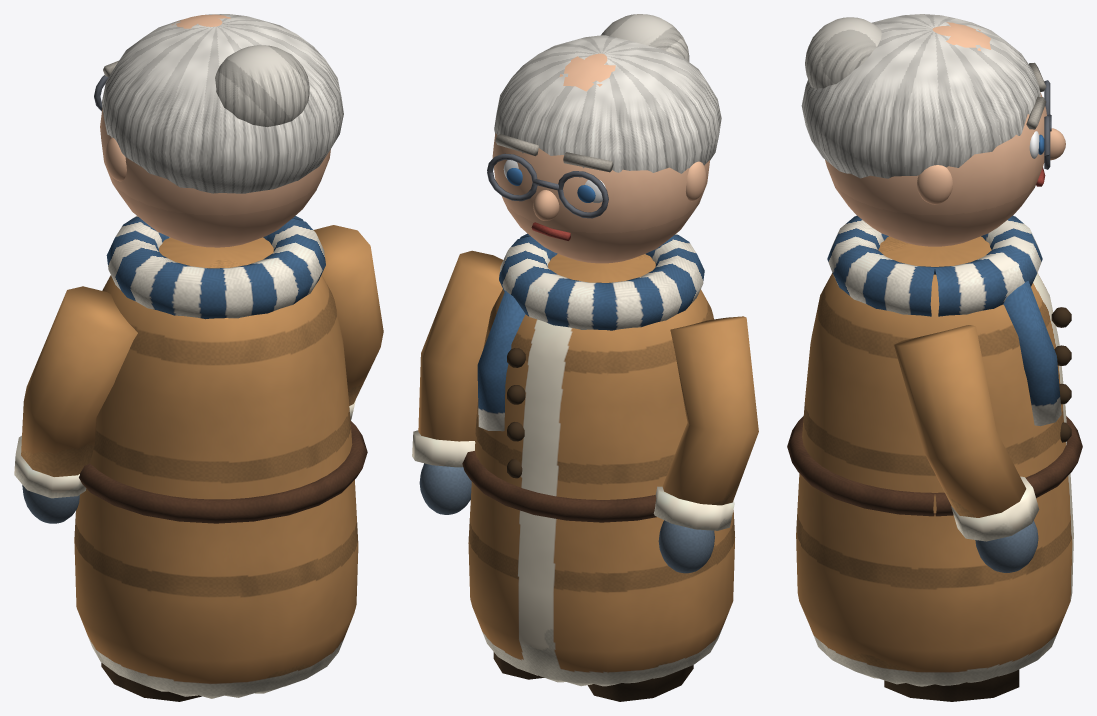
The model's file is ingrid.glb.
3 renders of one model, left to right at view 1: azimuth 30°, elevation 25°; view 2: azimuth 150°, elevation 25°; view 3: azimuth 270°, elevation 25°, orthographic. The views are drawn at different scales.
Visible parts, largest first — view 1: Body, Head; view 2: Body, Head; view 3: Body, Head.
Part boxes in pixels (left/top/right/bottom): Body: left=14, top=216, right=383, bottom=701; Head: left=94, top=14, right=343, bottom=247; Body: left=412, top=233, right=758, bottom=701; Head: left=487, top=14, right=721, bottom=263; Body: left=787, top=215, right=1082, bottom=701; Head: left=801, top=14, right=1065, bottom=246.
Bounding box in the file's own units: 0.9311 × 1.66 × 0.7.
Materials: 1 (1 with a texture image).
